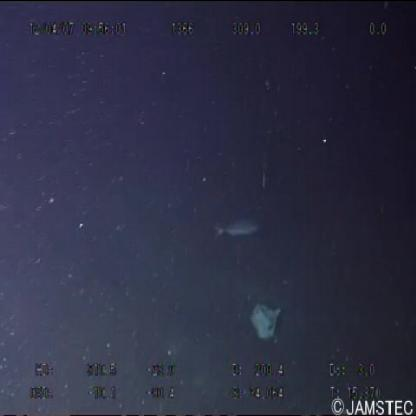Bio: (210, 216, 262, 238)
Rác: (246, 298, 285, 343)
